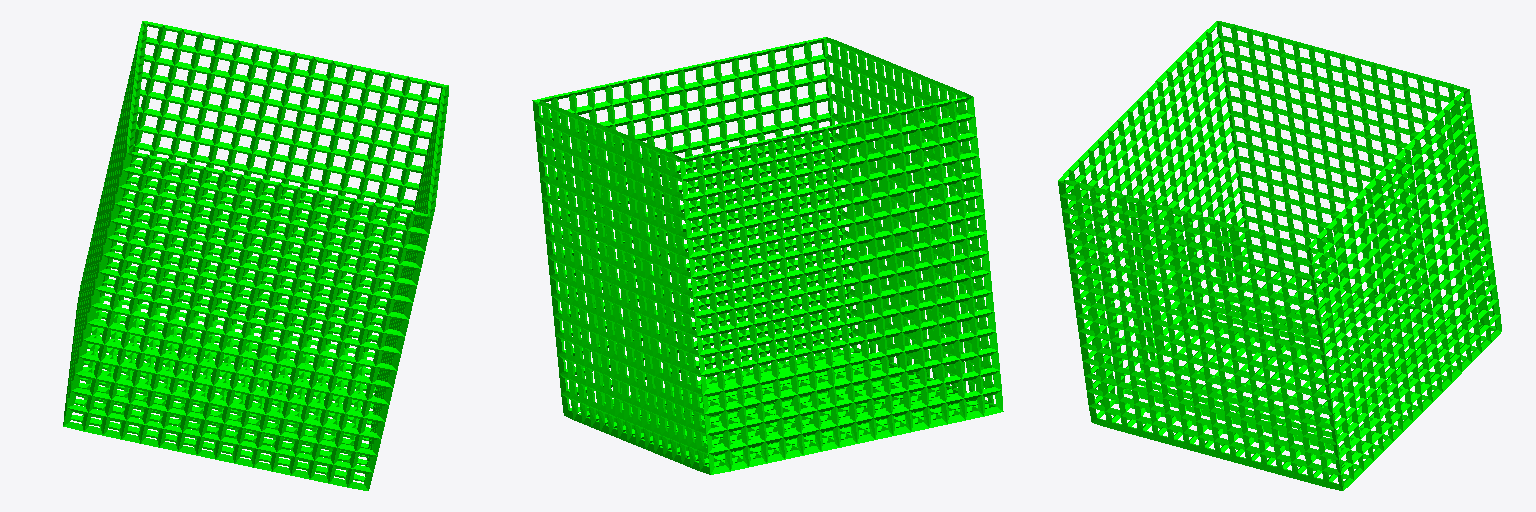
The robot description file, URDF, robot "cube.urdf":
<?xml version="0.0" ?>
<robot name="cube.urdf">
  <link name="baseLink">
    <contact>
      <lateral_friction value="1.0"/>
     
    </contact>
    <inertial>
      <origin rpy="0 0 0" xyz="0 0 -0.15"/>
       <mass value=".0"/>
       <inertia ixx="0" ixy="0" ixz="0" iyy="0" iyz="0" izz="0"/>
    </inertial>
    <visual>
      <origin rpy="0 0 0" xyz="0 0 -0.15"/>
      <geometry>
        <mesh filename="Crate.obj" scale=".005 .005 .005"/>
      </geometry>
       <material name="green">
        <color rgba="0 255 0 1"/>
      </material>
    </visual>
    <collision>
      <origin rpy="0 0 0" xyz="0 0 -0.15"/>
      <geometry>
	 	<mesh filename="Crate.obj" scale=".005 .005 .005"/>
      </geometry>
    </collision>
  </link>
</robot>

--- Facts derived from the render (not from the file) ---
3 views of the same robot in one strip: view 1: azimuth 30°, elevation 25°; view 2: azimuth 150°, elevation 25°; view 3: azimuth 270°, elevation 25° (orthographic).
Robot: cube.urdf — 1 links, 0 joints (none); root link baseLink; default pose: every joint at zero.
Visible links, largest first — view 1: baseLink; view 2: baseLink; view 3: baseLink.
Link boxes in pixels (<box>): baseLink: <box>63,21,448,490</box>; baseLink: <box>532,37,1003,474</box>; baseLink: <box>1058,21,1501,490</box>.
Bounding box of the posed robot: 0.0443 × 0.0427 × 0.034 m (x, y, z).
1 mesh visuals loaded from 1 distinct referenced files (1 OBJ).